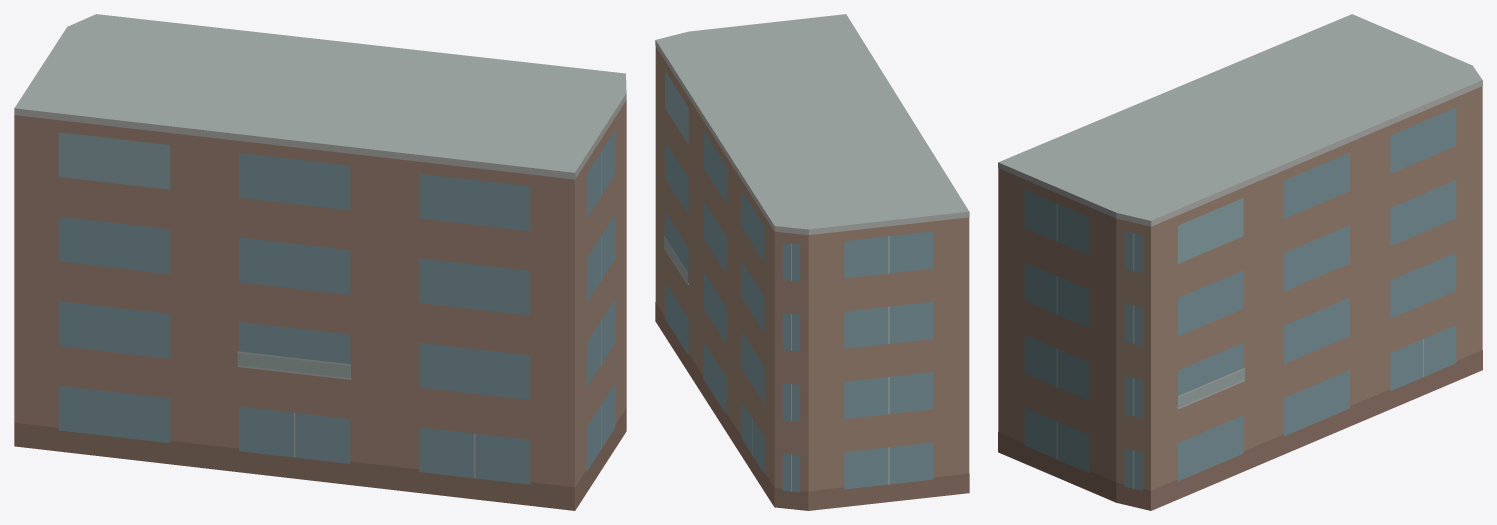
The model's file is survey-upis-32661012.glb.
3 renders of one model, left to right at view 1: azimuth 30°, elevation 25°; view 2: azimuth 150°, elevation 25°; view 3: azimuth 270°, elevation 25°, orthographic. The views are drawn at different scales.
Parts seen in each view (by area): view 1: survey-upis-32661012.tmp; view 2: survey-upis-32661012.tmp; view 3: survey-upis-32661012.tmp.
Part boxes in pixels (<box>): survey-upis-32661012.tmp: <box>14,14,626,510</box>; survey-upis-32661012.tmp: <box>655,14,969,510</box>; survey-upis-32661012.tmp: <box>998,14,1482,510</box>.
Bounding box in the file's own units: 18.68 × 12.2 × 18.49.
